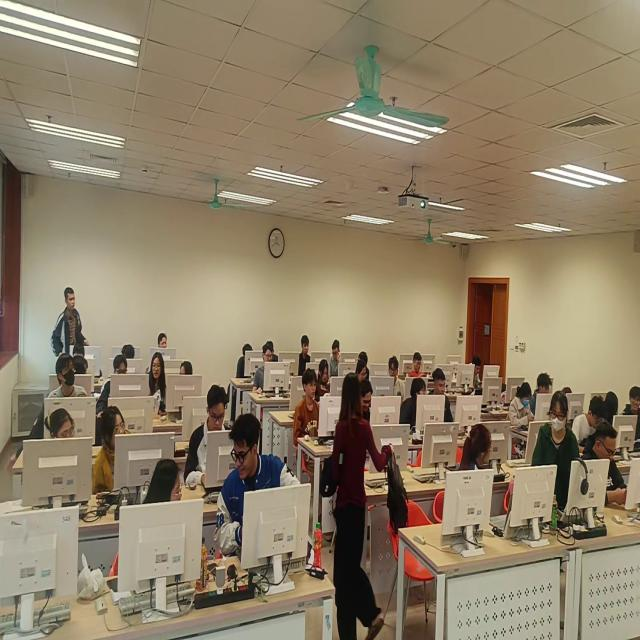raise_head: (294, 368, 320, 439), (52, 351, 85, 402), (389, 357, 405, 399), (158, 331, 168, 350)
stand: (324, 366, 383, 640), (534, 390, 581, 511), (50, 279, 86, 355)
using_computer: (97, 352, 130, 421), (572, 394, 603, 446), (147, 352, 171, 410), (507, 380, 534, 431), (432, 368, 456, 424), (253, 343, 275, 399), (532, 372, 556, 415), (236, 339, 253, 383), (361, 381, 377, 425), (298, 331, 311, 374), (319, 357, 332, 396), (471, 355, 485, 390), (329, 338, 341, 377), (411, 349, 423, 379), (357, 357, 369, 382), (123, 344, 137, 361)
using_phone: (583, 420, 629, 514)
